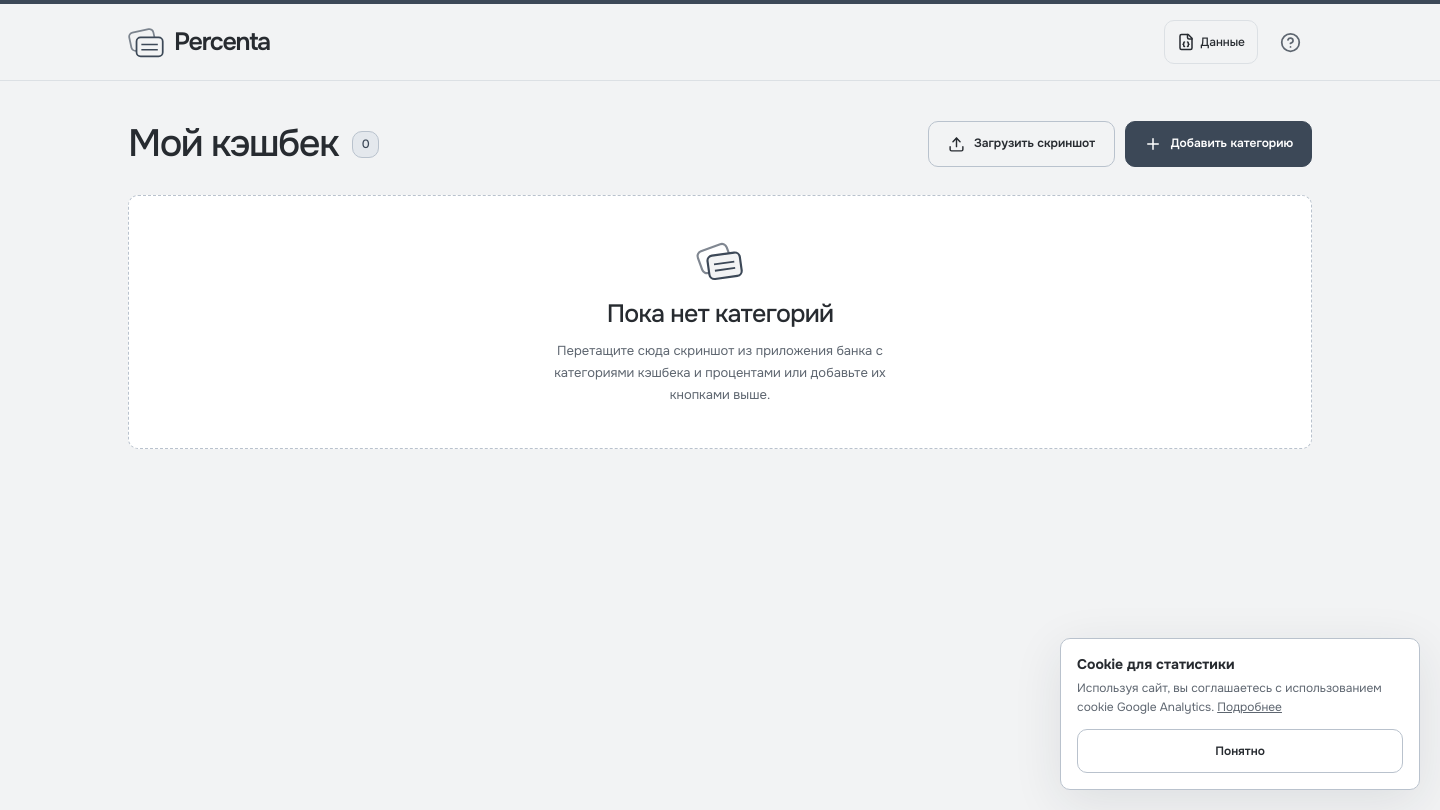
it: основные пользовательские сценарии › закрывает уведомление cookie и показывает справку без настроек аналитики
Click the button "Понятно". click: coordinates (1240, 751)
box: 1077,729 -> 1403,773
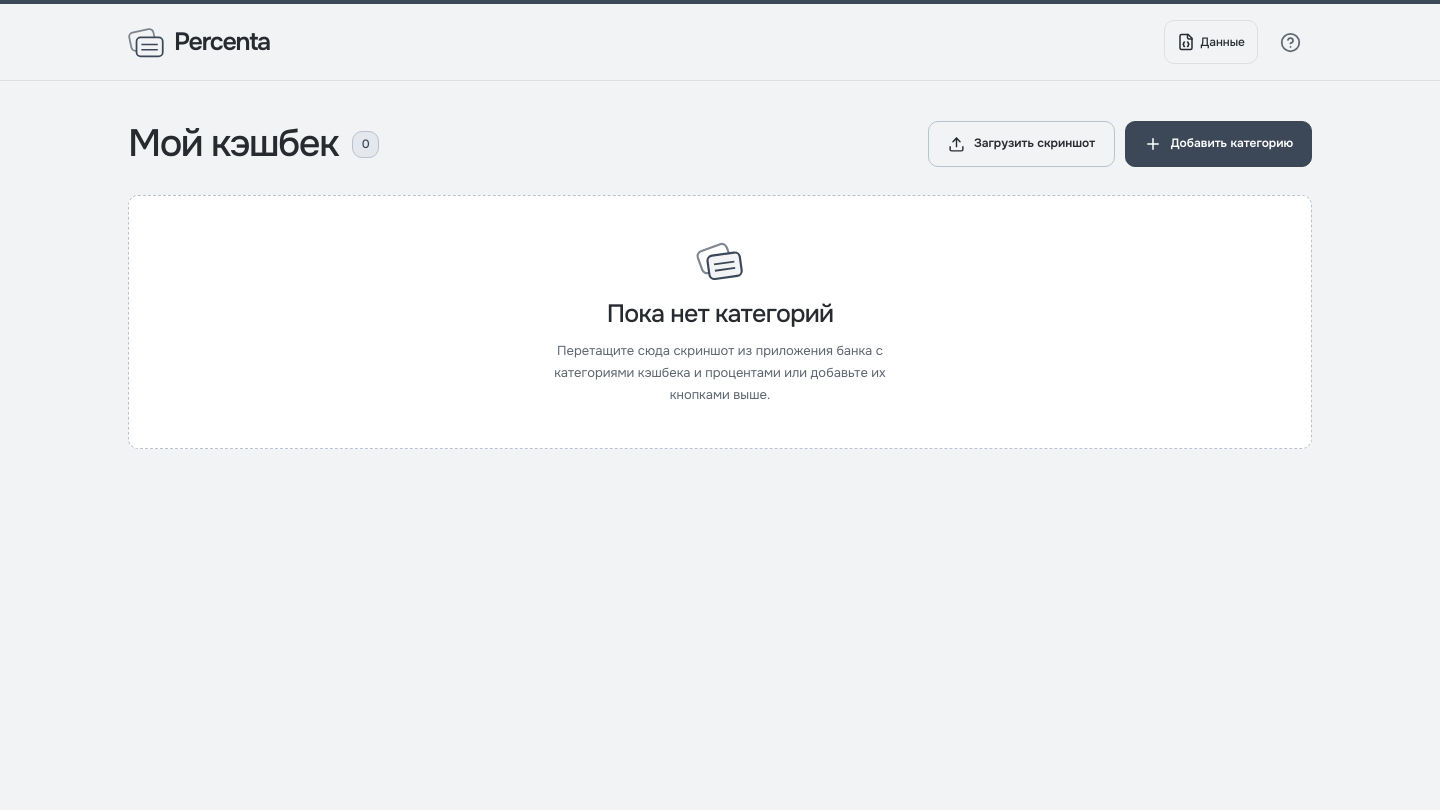
Click the button named "Как это работает". click: coordinates (1290, 42)
box: 1268,20 -> 1312,64
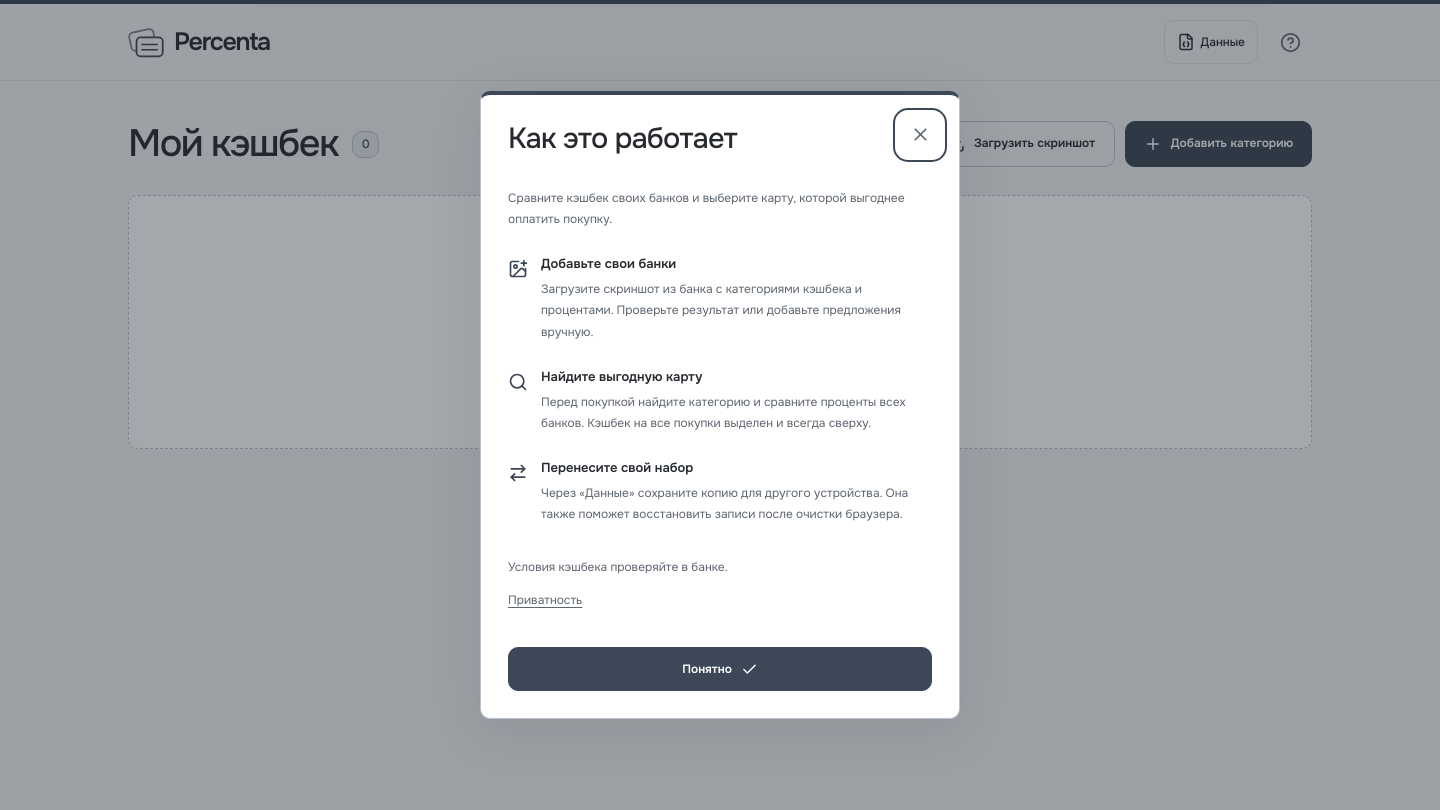
Now the dialog "Как это работает" is shown, box 480,90 -> 960,719
Now the link "Приватность" is shown, box 508,592 -> 582,608
